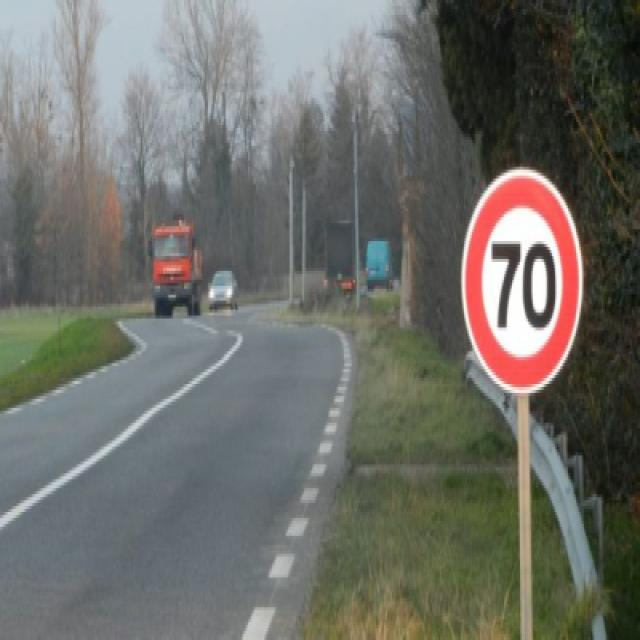speed_70: (460, 165, 584, 398)
